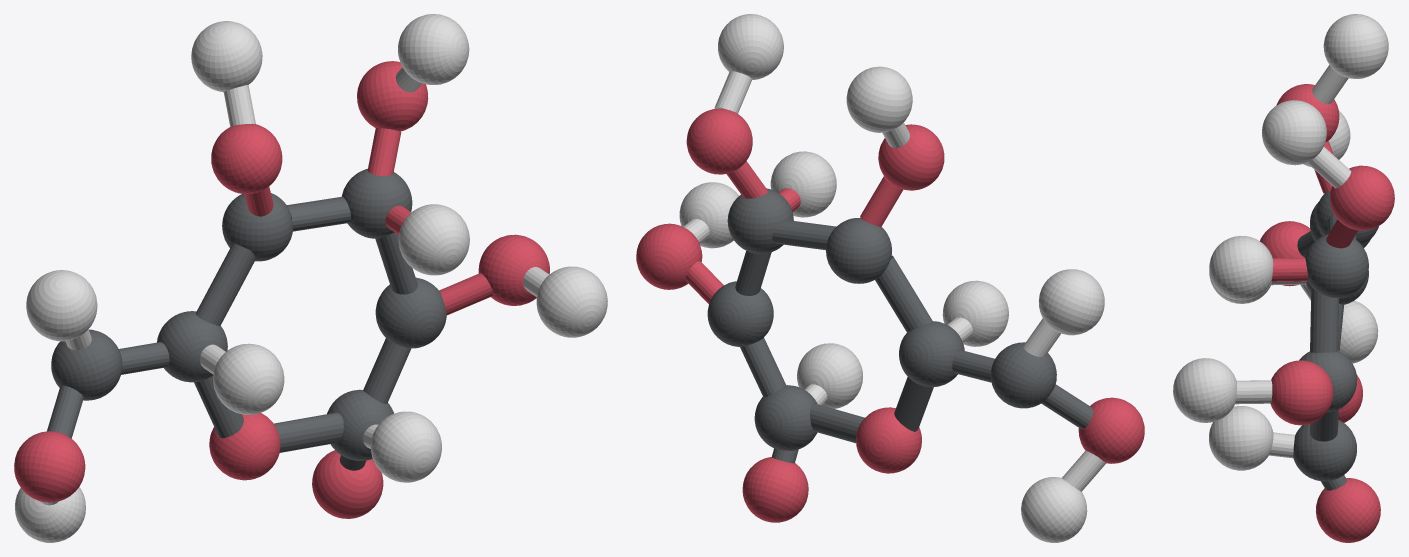
File: Glorious Bombul.glb
3 renders of one model, left to right at view 1: azimuth 30°, elevation 25°; view 2: azimuth 150°, elevation 25°; view 3: azimuth 270°, elevation 25°, orthographic. The views are drawn at different scales.
Parts seen in each view (by area): view 1: Mesh_Mesh_head_geo.001_lambert2SG.001; view 2: Mesh_Mesh_head_geo.001_lambert2SG.001; view 3: Mesh_Mesh_head_geo.001_lambert2SG.001.
Part boxes in pixels (x1,y1,x2,y2): Mesh_Mesh_head_geo.001_lambert2SG.001: [14, 14, 607, 542]; Mesh_Mesh_head_geo.001_lambert2SG.001: [636, 14, 1144, 542]; Mesh_Mesh_head_geo.001_lambert2SG.001: [1173, 14, 1394, 542].
Bounding box in the file's own units: 95.73 × 87.79 × 37.47.
